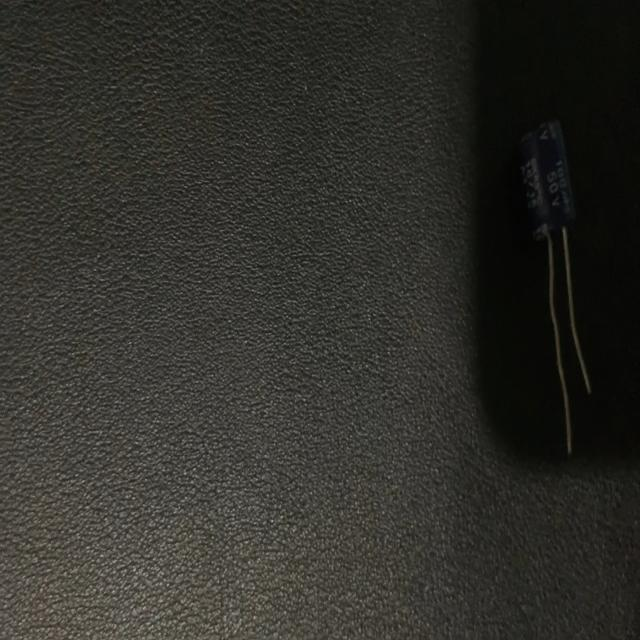capacitor: (514, 120, 590, 458)
